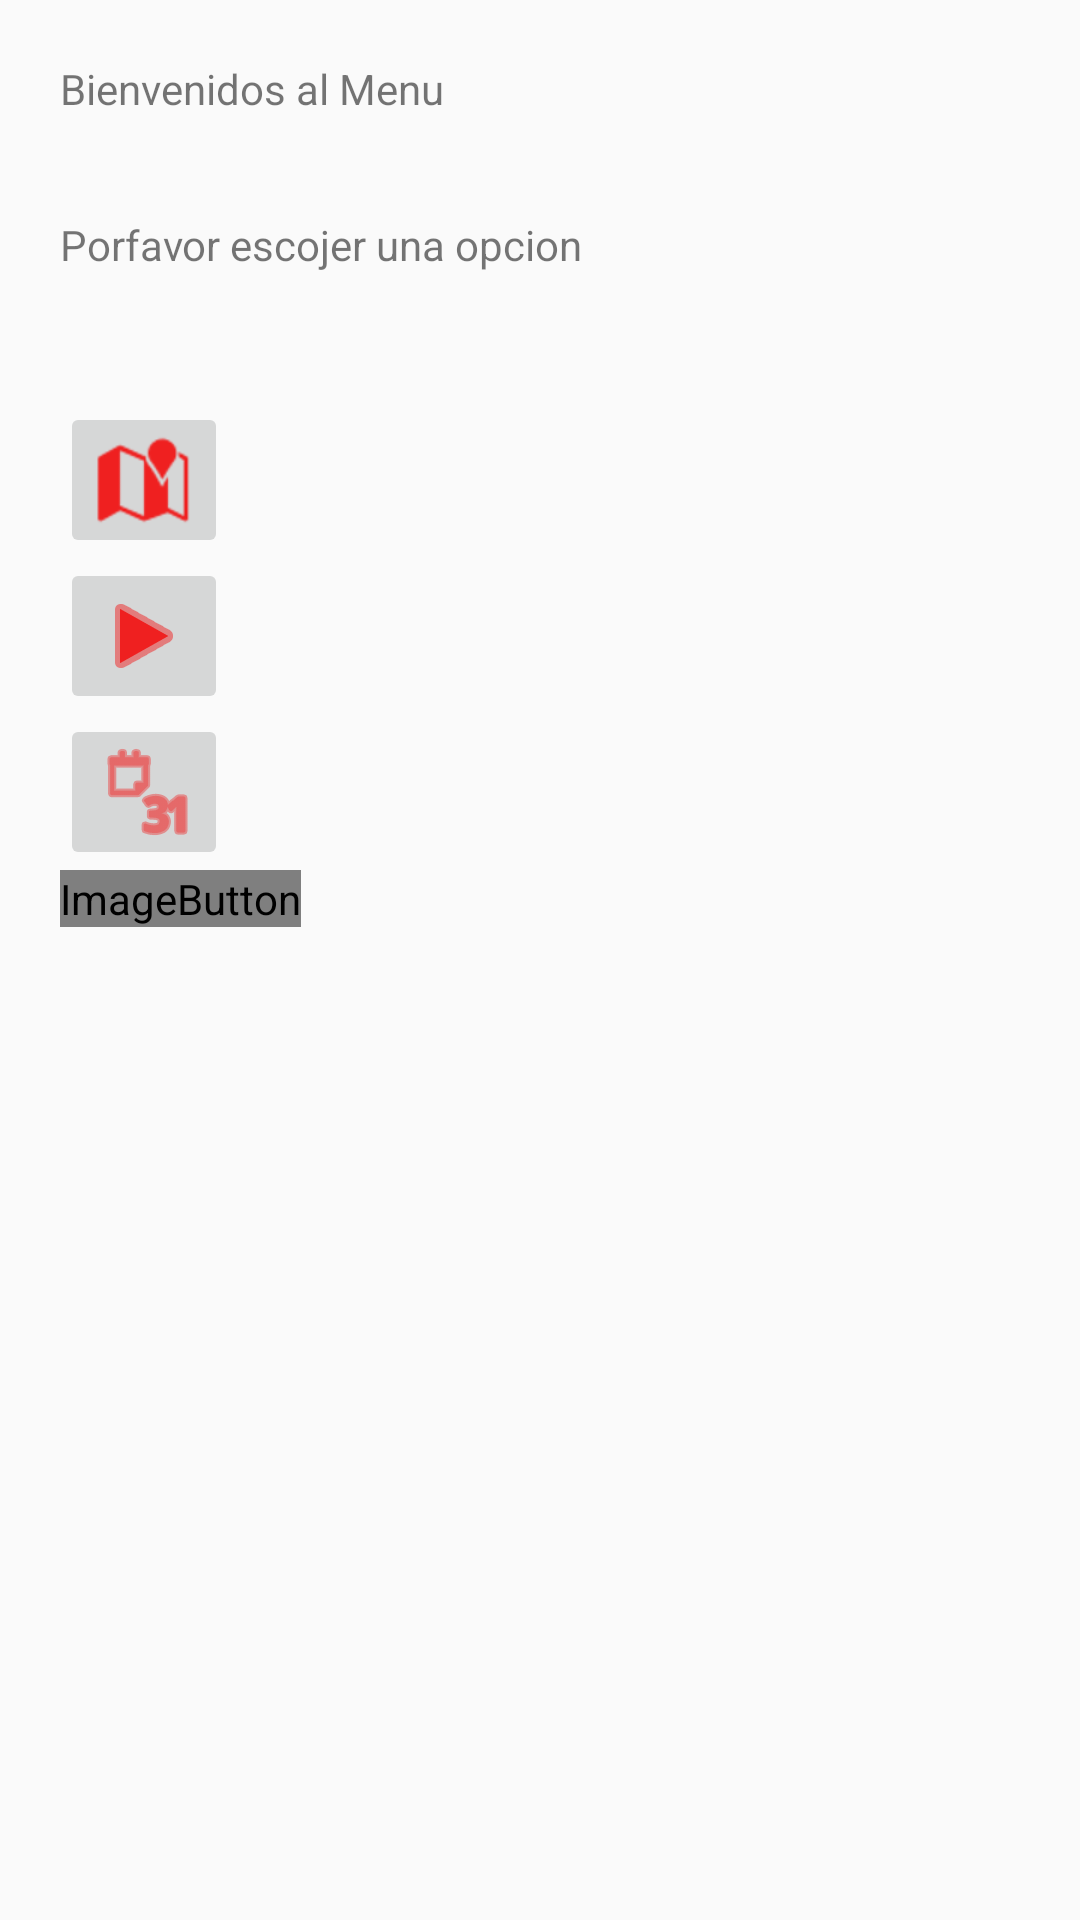

Icons on this 1080 x 1920 Android screen, each with its box as [x1=x1, y1=y1, x2=x2, y2=y2]:
map: [x1=72, y1=420, x2=216, y2=540]
month: [x1=72, y1=732, x2=216, y2=852]
play: [x1=72, y1=576, x2=216, y2=696]
